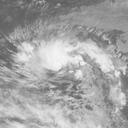cyclone: (24, 40, 87, 82)
